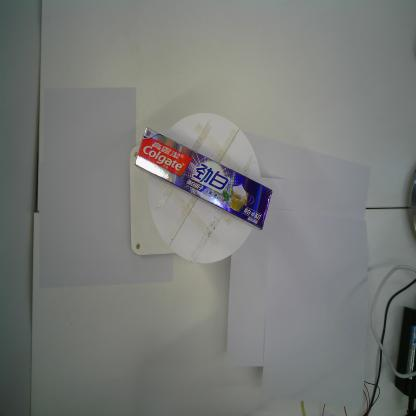Personal Hygiene: (133, 124, 273, 232)
